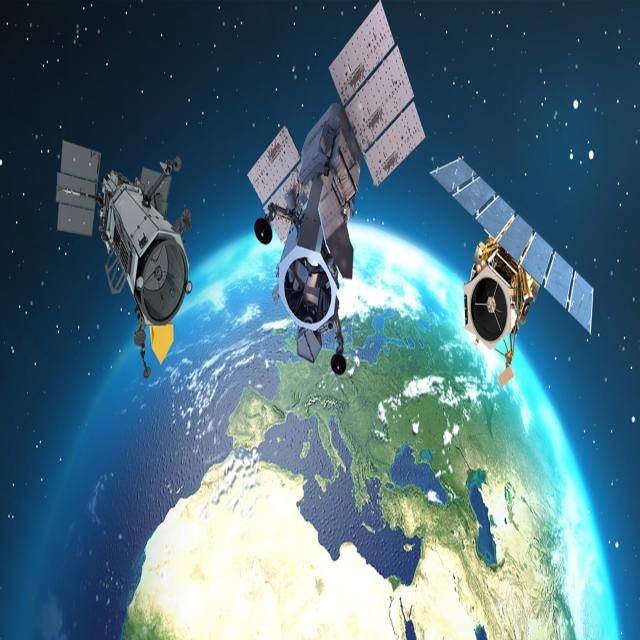medium_debris: (238, 0, 431, 411), (426, 112, 609, 411), (51, 107, 198, 386)
